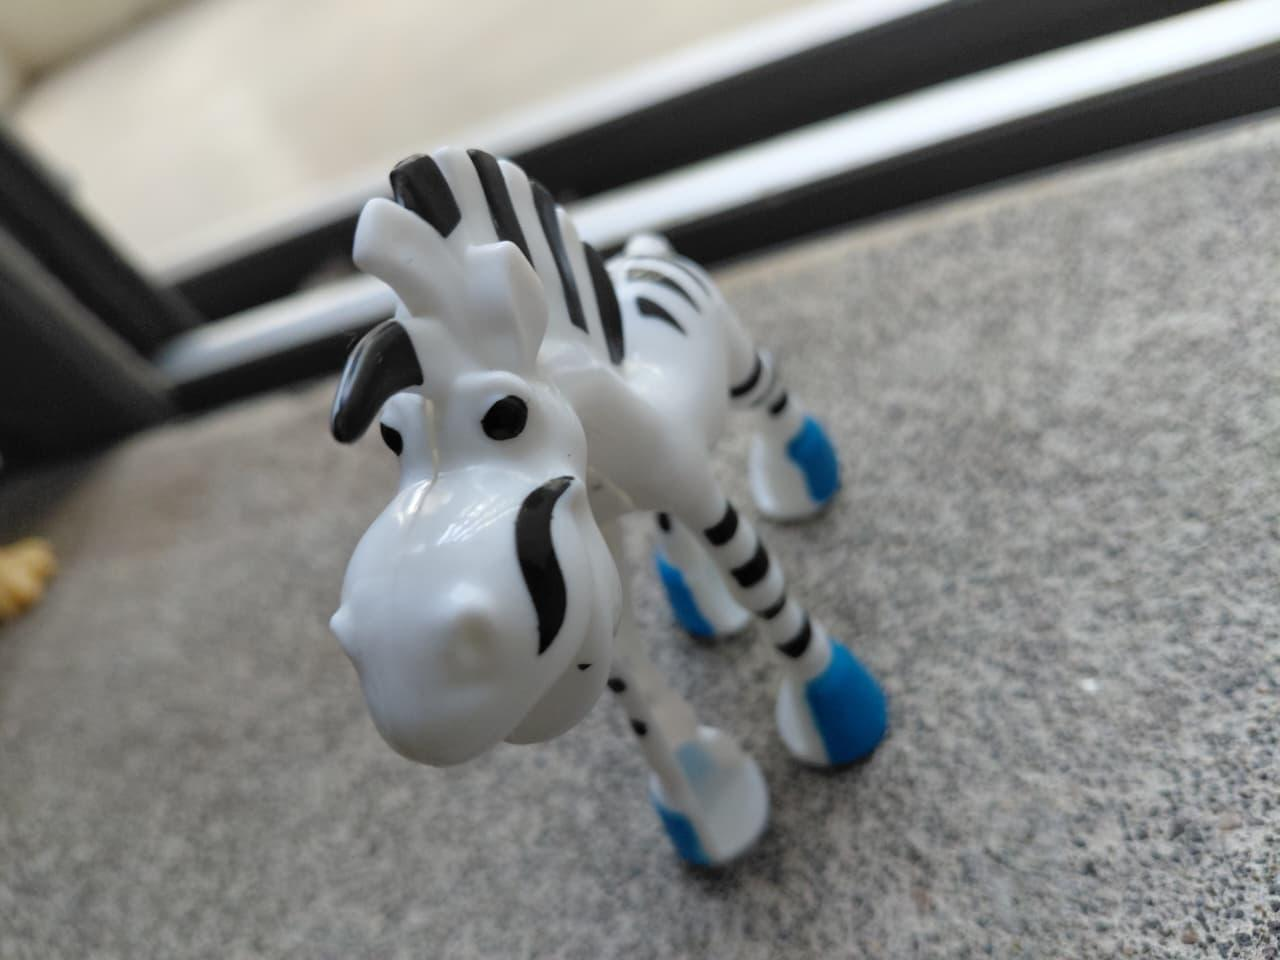zebra: (222, 99, 940, 908)
